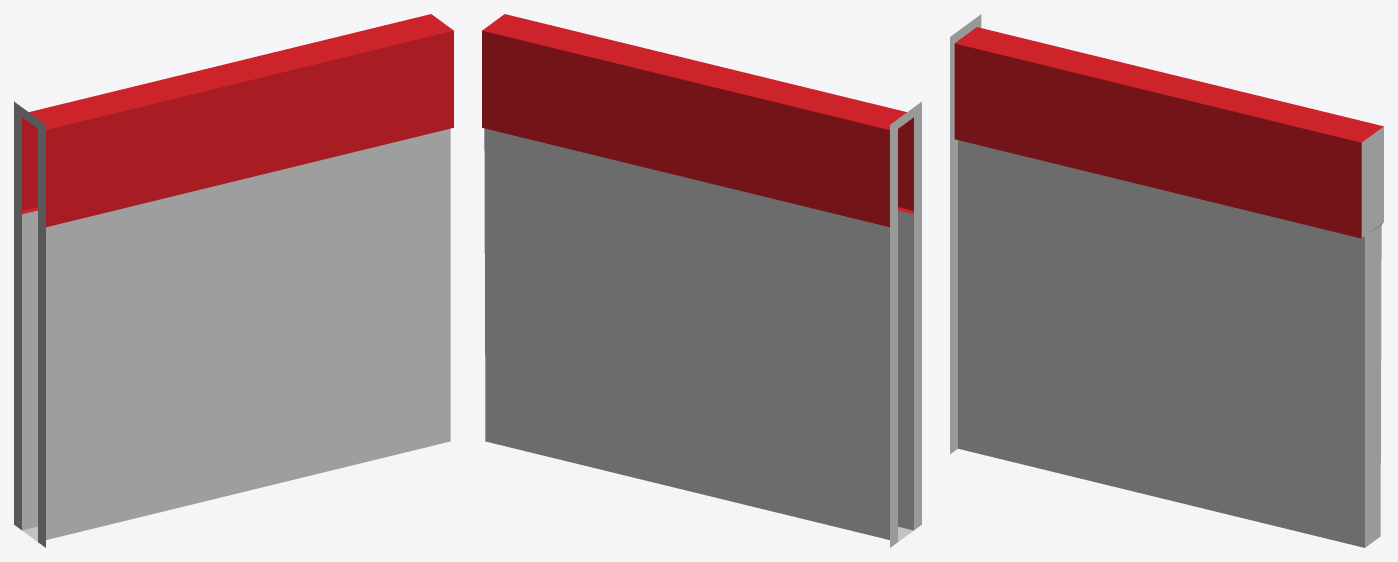
Rendered from Fence3.fbx.
3 views of the same model, side by side, from view 1: azimuth 30°, elevation 25°; view 2: azimuth 150°, elevation 25°; view 3: azimuth 330°, elevation 25° (orthographic).
Visible parts, largest first — view 1: Fence1; view 2: Fence1; view 3: Fence1.
Part boxes in pixels (x1,y1,x2,y2): Fence1: [14, 14, 453, 547]; Fence1: [482, 14, 921, 547]; Fence1: [950, 14, 1383, 547].
Size of the model in its own units: 265 by 259 by 35.33.
